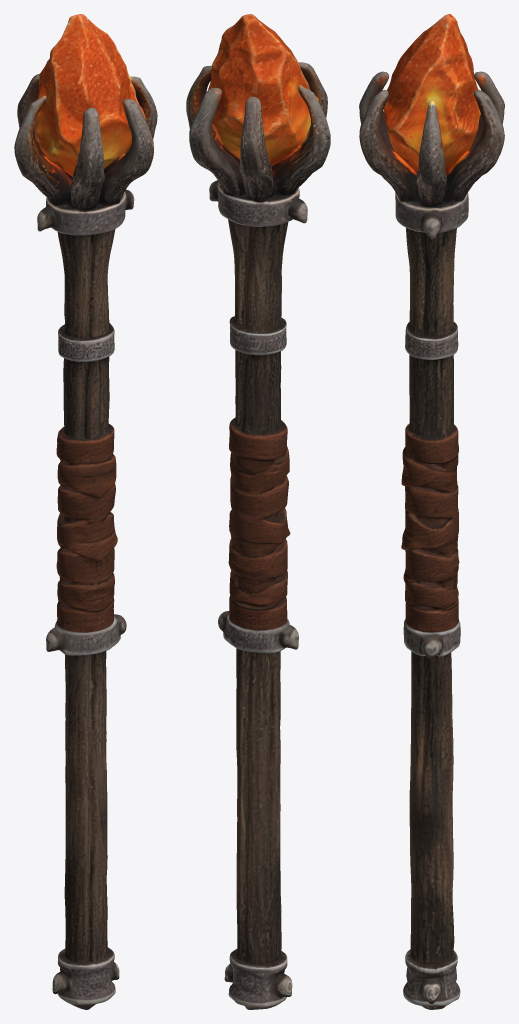
The model's file is staff_ember.glb.
3 renders of one model, left to right at view 1: azimuth 30°, elevation 25°; view 2: azimuth 150°, elevation 25°; view 3: azimuth 270°, elevation 25°, orthographic.
Parts seen in each view (by area): view 1: weapon; view 2: weapon; view 3: weapon.
Boxes of the visible parts, x1,y1,x2,y2 form: weapon: (14,14,157,1009); weapon: (186,14,330,1009); weapon: (359,14,504,1009).
Bounding box in the file's own units: 0.1512 × 1 × 0.1333.
Materials: 1 (1 with a texture image).
